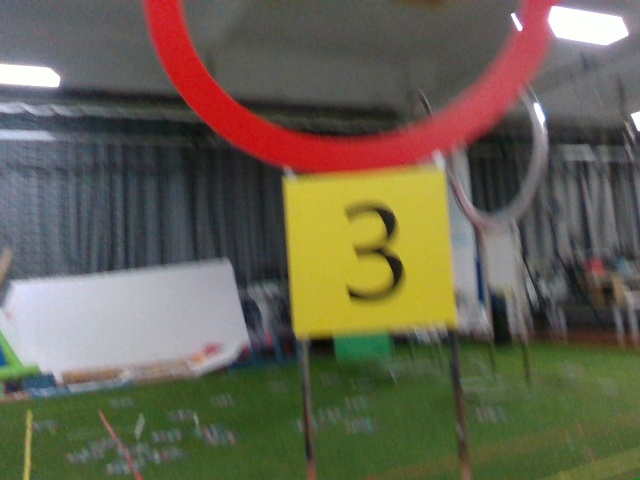target: (296, 180, 446, 325)
